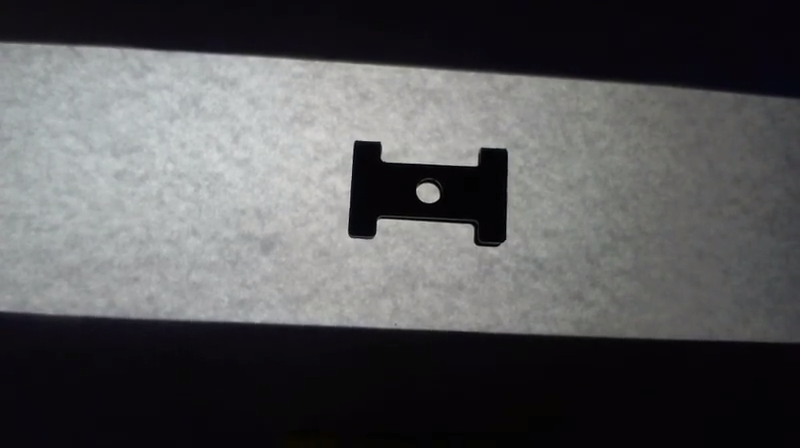O002: (348, 136, 516, 250)
